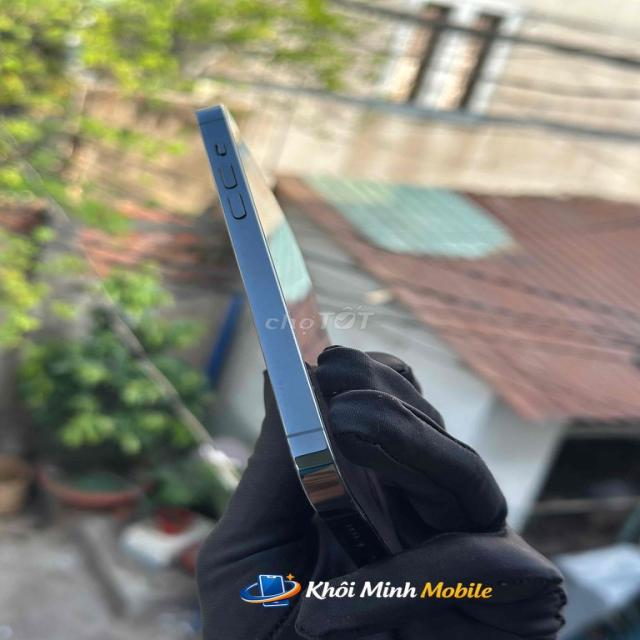gen_14: (185, 92, 413, 576)
